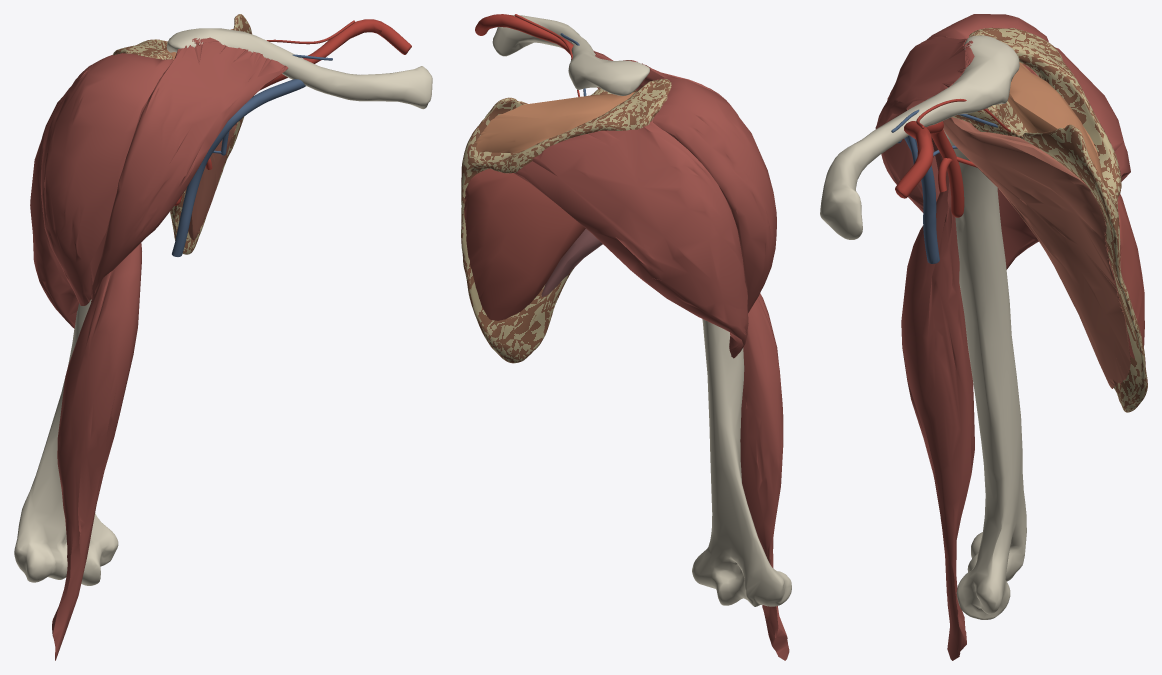
The model's file is textured-mixed.glb.
3 renders of one model, left to right at view 1: azimuth 30°, elevation 25°; view 2: azimuth 150°, elevation 25°; view 3: azimuth 270°, elevation 25°, orthographic. The views are drawn at different scales.
Parts seen in each view (by area): view 1: FJ1468, FJ1467, FJ1478, FJ3368, FJ3362, FJ1513, FJ2269, FJ3384, FJ1504, FJ3579; view 2: FJ1513, FJ3368, FJ1500, FJ1467, FJ3384, FJ1478, FJ1506, FJ3362, FJ1508, FJ3579, FJ1468; view 3: FJ3368, FJ1478, FJ1504, FJ3384, FJ3362, FJ1468, FJ1506, FJ1513, FJ1500, FJ1467, FJ3579, FJ2268 (+1 smaller).
Part boxes in pixels (left/top/right/bottom): FJ1468: left=91, top=37, right=288, bottom=301; FJ1467: left=41, top=53, right=173, bottom=305; FJ1478: left=52, top=243, right=141, bottom=660; FJ3368: left=14, top=299, right=118, bottom=585; FJ3362: left=166, top=28, right=432, bottom=109; FJ1513: left=30, top=54, right=112, bottom=328; FJ2269: left=172, top=79, right=305, bottom=256; FJ3384: left=113, top=14, right=251, bottom=254; FJ1504: left=185, top=121, right=238, bottom=240; FJ3579: left=303, top=19, right=411, bottom=63; FJ1513: left=514, top=120, right=748, bottom=358; FJ3368: left=692, top=319, right=791, bottom=606; FJ1500: left=464, top=168, right=585, bottom=320; FJ1467: left=652, top=77, right=776, bottom=312; FJ3384: left=461, top=78, right=671, bottom=363; FJ1478: left=740, top=293, right=789, bottom=660; FJ1506: left=476, top=92, right=635, bottom=153; FJ3362: left=492, top=15, right=649, bottom=95; FJ1508: left=541, top=229, right=602, bottom=296; FJ3579: left=475, top=14, right=573, bottom=54; FJ1468: left=593, top=50, right=738, bottom=116; FJ3368: left=944, top=131, right=1026, bottom=619; FJ1478: left=901, top=158, right=974, bottom=660; FJ1504: left=943, top=117, right=1130, bottom=388; FJ3384: left=952, top=27, right=1147, bottom=412; FJ3362: left=820, top=35, right=1019, bottom=239; FJ1468: left=875, top=36, right=974, bottom=212; FJ1506: left=1007, top=62, right=1104, bottom=184; FJ1513: left=997, top=47, right=1130, bottom=269; FJ1500: left=1022, top=63, right=1144, bottom=358; FJ1467: left=927, top=14, right=1048, bottom=170; FJ3579: left=895, top=121, right=933, bottom=198; FJ2268: left=926, top=121, right=964, bottom=217.
Size of the model in its own units: 2.31 by 3.61 by 1.52.
Materials: 21 (2 with a texture image).
